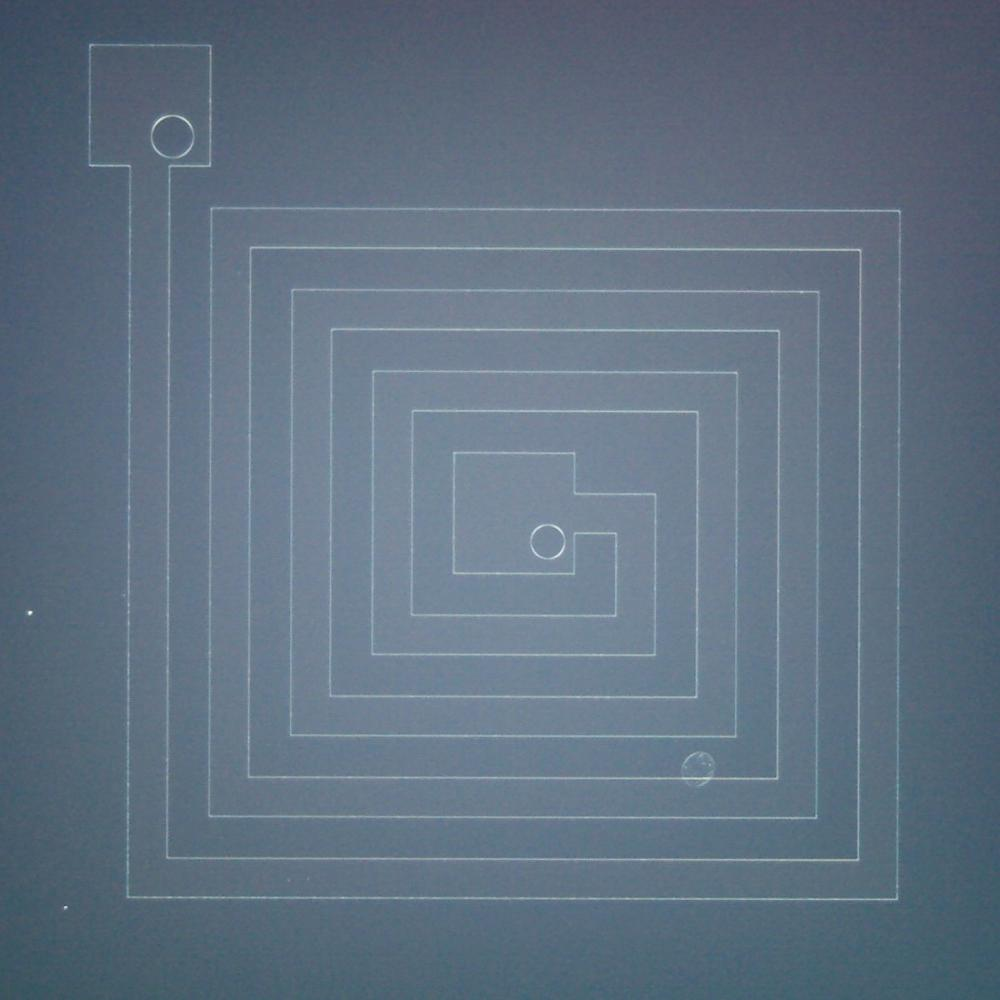dot: (28, 610, 34, 616), (64, 906, 68, 910)
